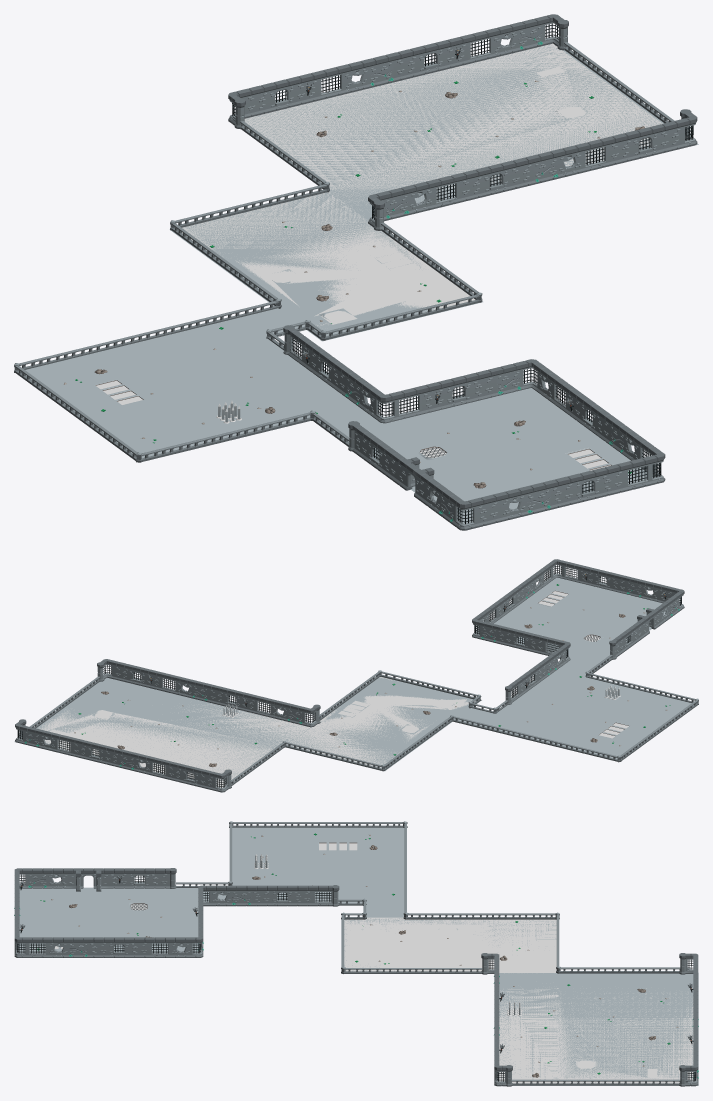
Rendered from Map_06.fbx.
3 renders of one model, top to bottom at view 1: azimuth 30°, elevation 25°; view 2: azimuth 150°, elevation 25°; view 3: azimuth 270°, elevation 25°, orthographic. The views are drawn at different scales.
Parts seen in each view (by area): view 1: Grounds.001, SM_World_01_Barrier, PlaneEnemyAI_Hide; view 2: Grounds.001, SM_World_01_Barrier, PlaneEnemyAI_Hide; view 3: Grounds.001, PlaneEnemyAI_Hide, SM_World_01_Barrier.
Boxes of the visible parts, x1,y1,x2,y2 form: Grounds.001: [25, 44, 698, 523]; SM_World_01_Barrier: [14, 14, 697, 530]; PlaneEnemyAI_Hide: [96, 43, 662, 470]; Grounds.001: [14, 577, 693, 792]; SM_World_01_Barrier: [15, 559, 698, 792]; PlaneEnemyAI_Hide: [39, 591, 628, 787]; Grounds.001: [19, 827, 698, 1085]; PlaneEnemyAI_Hide: [54, 843, 693, 1083]; SM_World_01_Barrier: [14, 821, 698, 1086].
Size of what is drawn, in the model's own units: 121 by 134 by 5.03.
